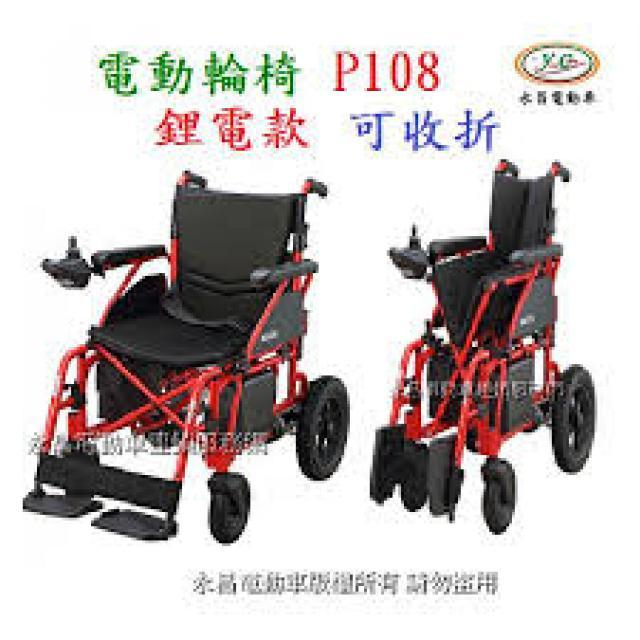wheelchair: (14, 165, 347, 552), (364, 148, 597, 546)
